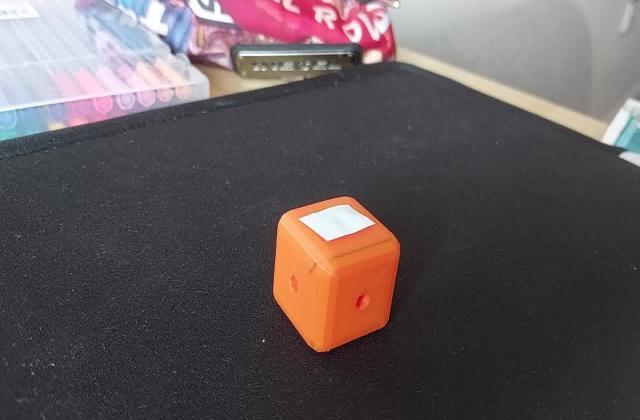cube: (268, 191, 399, 354)
white: (304, 208, 368, 246)
